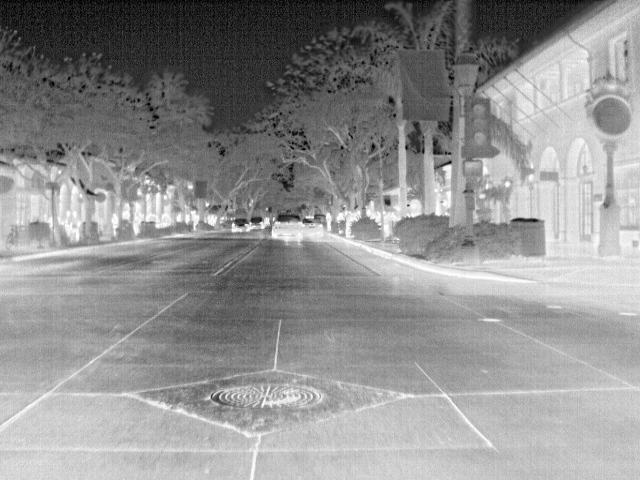car: (272, 214, 306, 241), (301, 219, 324, 238), (232, 216, 252, 234), (249, 213, 266, 230)
person: (68, 210, 81, 242), (108, 211, 121, 237), (188, 212, 201, 231), (322, 211, 333, 232)
